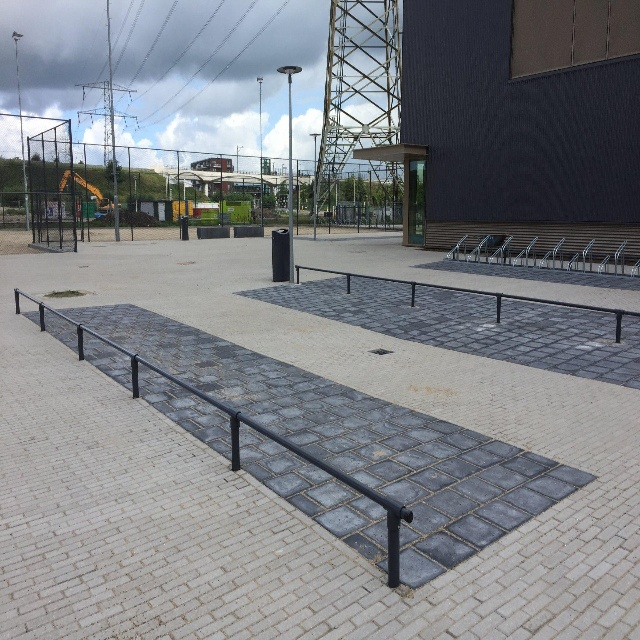obstacle: (19, 0, 640, 638)
